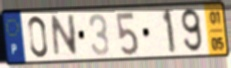0: (27, 15, 49, 59)
1: (160, 8, 178, 57)
3: (88, 12, 111, 57)
5: (115, 10, 141, 57)
9: (179, 7, 204, 55)
N: (49, 13, 79, 59)
